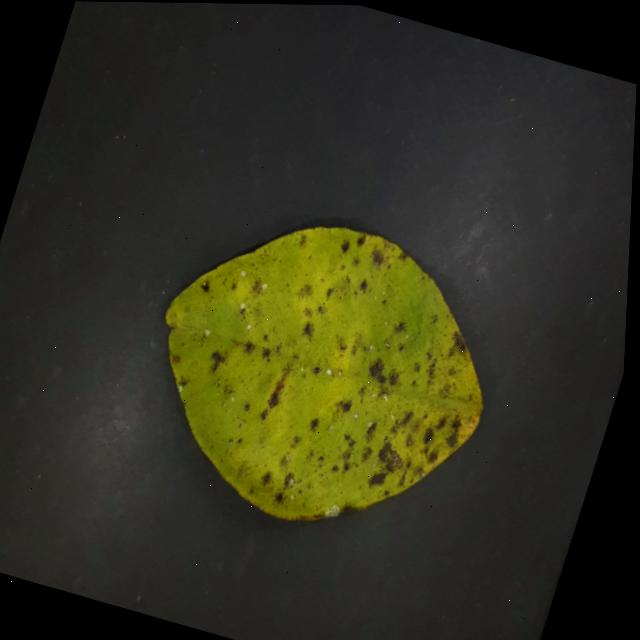greasy_spot: (165, 227, 482, 519)
